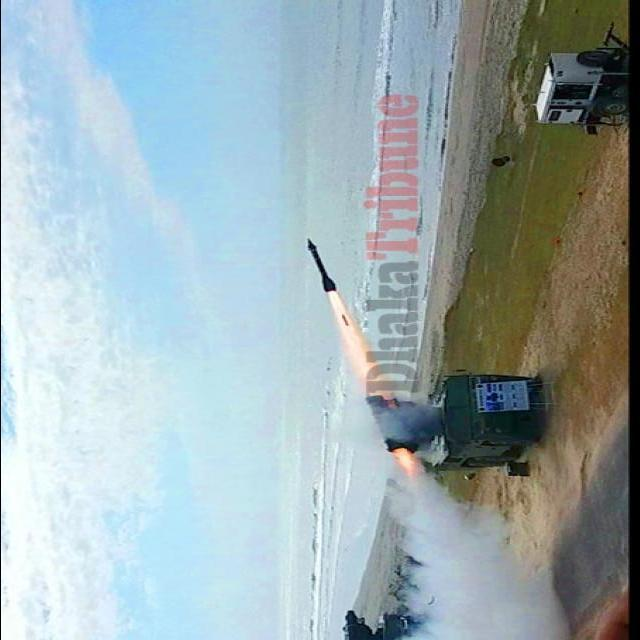missile: (296, 237, 341, 290)
